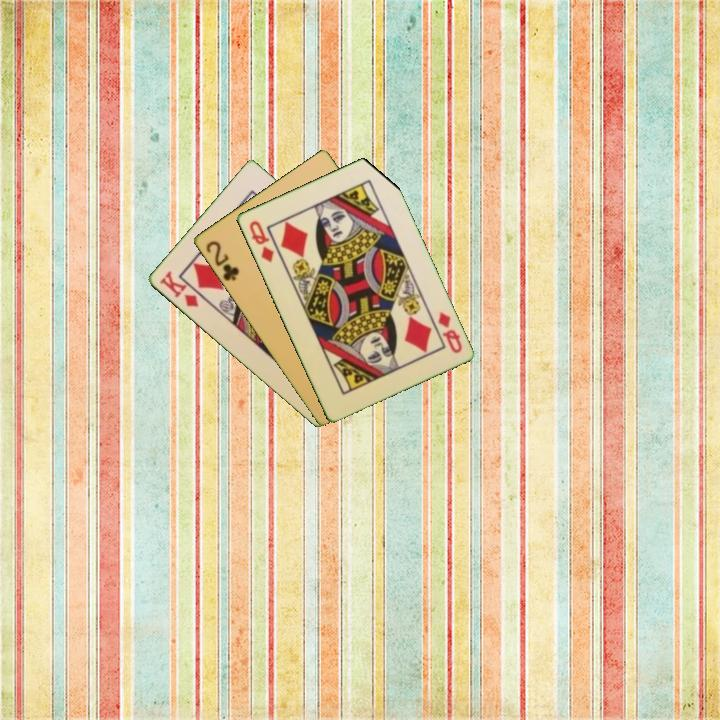2c: (202, 237, 242, 284)
Kd: (156, 267, 201, 310)
Qd: (245, 217, 277, 265), (434, 308, 465, 356)
